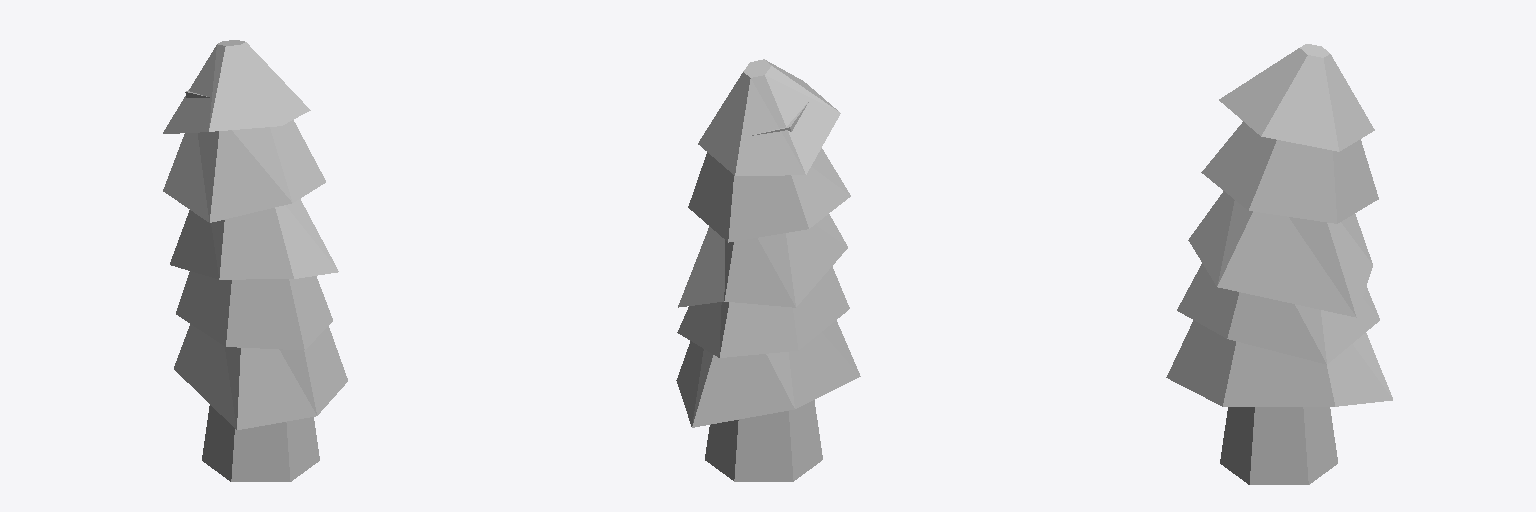
File: Trees.obj
3 views of the same model, side by side, from view 1: azimuth 30°, elevation 25°; view 2: azimuth 150°, elevation 25°; view 3: azimuth 270°, elevation 25° (orthographic).
Visible parts, largest first — view 1: Cylinder.001, Cylinder.004, Cylinder.003, Cylinder.002, Cylinder.005, Cylinder; view 2: Cylinder.005, Cylinder.001, Cylinder.003, Cylinder.004, Cylinder.002, Cylinder; view 3: Cylinder.003, Cylinder.001, Cylinder.004, Cylinder.005, Cylinder.002, Cylinder.
Part boxes in pixels (x1,y1,x2,y2): Cylinder.001: (174,324,347,429); Cylinder.004: (163,120,325,222); Cylinder.003: (170,199,338,279); Cylinder.002: (176,271,332,349); Cylinder.005: (163,40,310,133); Cylinder: (202,405,319,481); Cylinder.005: (698,59,840,175); Cylinder.001: (676,320,860,427); Cylinder.003: (678,214,847,307); Cylinder.004: (688,148,850,242); Cylinder.002: (677,266,849,357); Cylinder: (705,400,822,481); Cylinder.003: (1188,191,1372,317); Cylinder.001: (1166,320,1392,406); Cylinder.004: (1201,121,1378,223); Cylinder.005: (1219,44,1374,151); Cylinder.002: (1177,263,1379,364); Cylinder: (1220,407,1337,484).
Size of the model in its own units: 2.62 by 7.64 by 3.84.